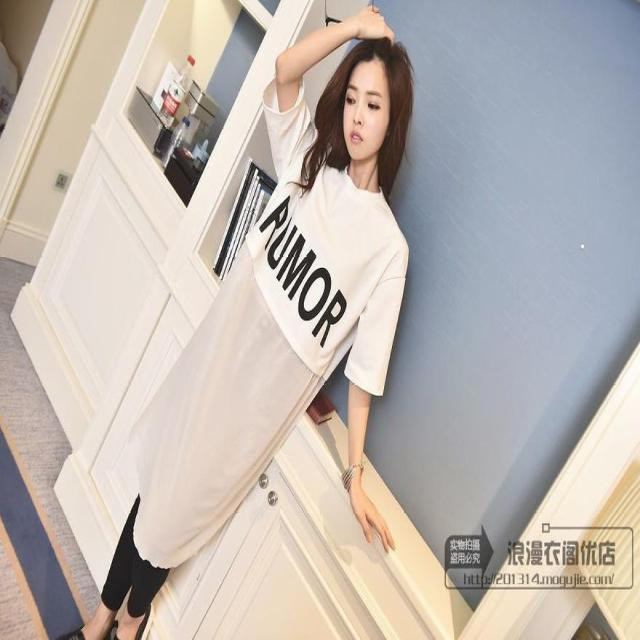short-sleeve-top: (256, 59, 410, 485)
